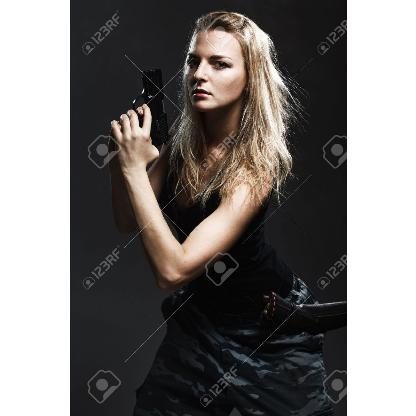gun: (105, 67, 164, 147)
